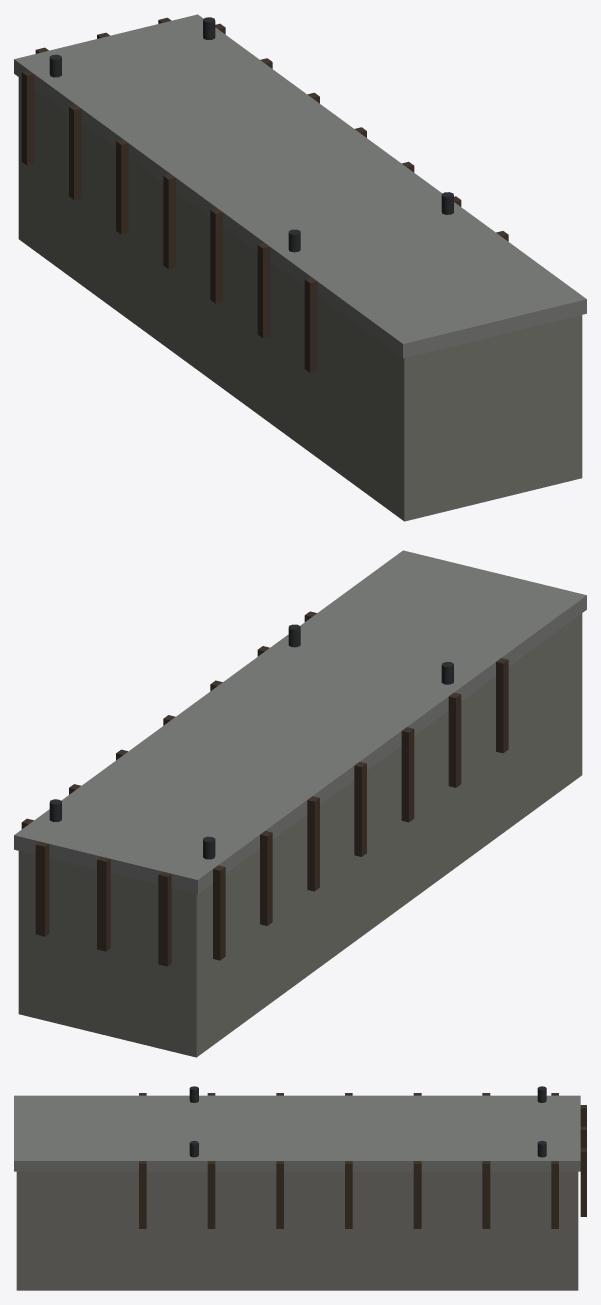
The model's file is quay_LOD0.glb.
3 renders of one model, top to bottom at view 1: azimuth 30°, elevation 25°; view 2: azimuth 150°, elevation 25°; view 3: azimuth 270°, elevation 25°, orthographic. The views are drawn at different scales.
Visible parts, largest first — view 1: Quay; view 2: Quay; view 3: Quay.
Part boxes in pixels (x1,y1,x2,y2): Quay: (14, 14, 586, 521); Quay: (14, 550, 586, 1057); Quay: (14, 1086, 586, 1290).
Size of the model in its own units: 6.48 by 6.15 by 22.24.
